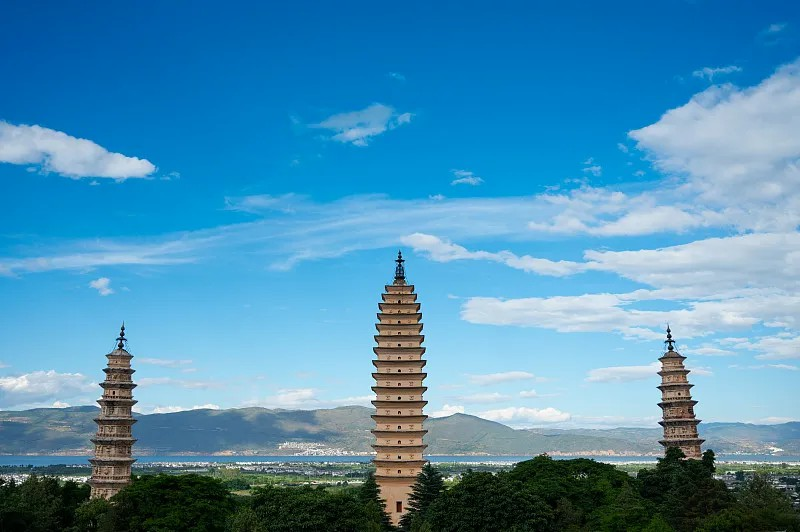ThreePagoda: (371, 250, 429, 525)
